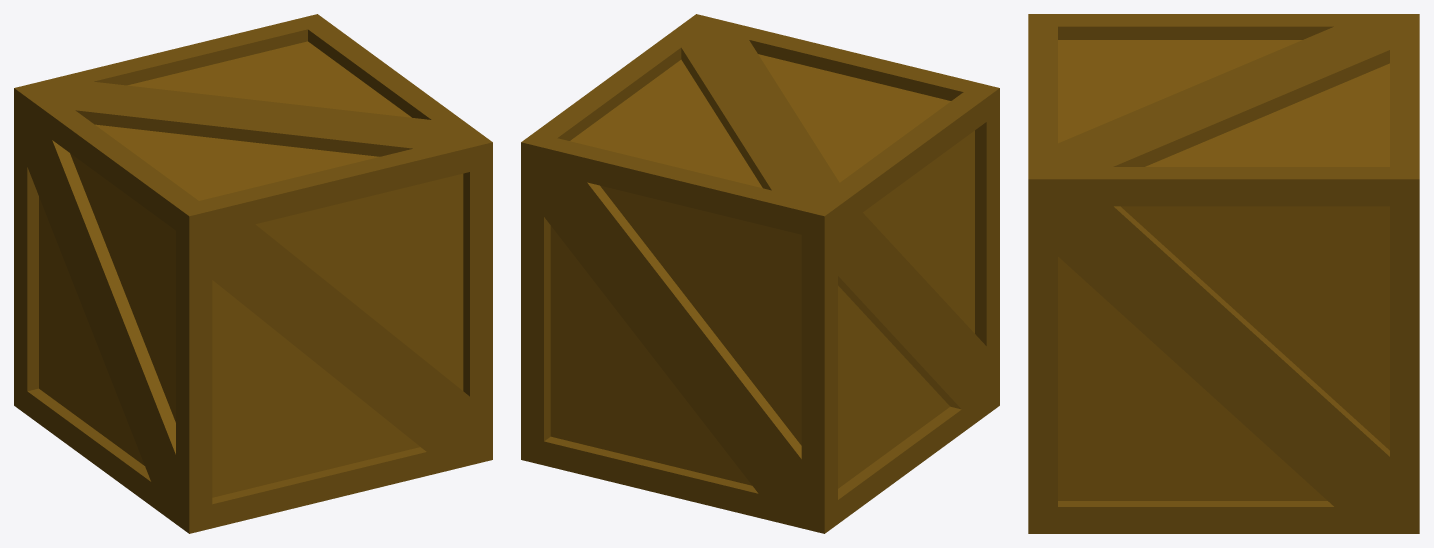
Rendered from crate.fbx.
3 renders of one model, left to right at view 1: azimuth 30°, elevation 25°; view 2: azimuth 150°, elevation 25°; view 3: azimuth 270°, elevation 25°, orthographic. The views are drawn at different scales.
Parts seen in each view (by area): view 1: Crate; view 2: Crate; view 3: Crate.
Boxes of the visible parts, left/top/right/bottom form: Crate: left=14, top=14, right=492, bottom=533; Crate: left=521, top=14, right=999, bottom=533; Crate: left=1028, top=14, right=1419, bottom=533.
Bounding box in the file's own units: 165 × 165 × 165.
